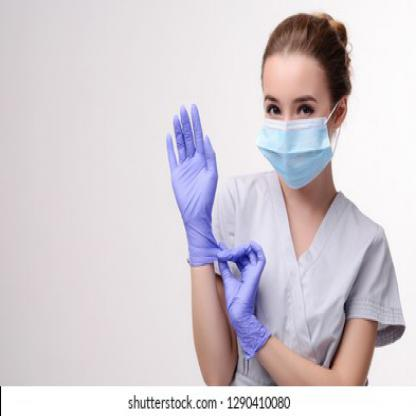with_gloves: (165, 102, 220, 268), (217, 239, 272, 358)
